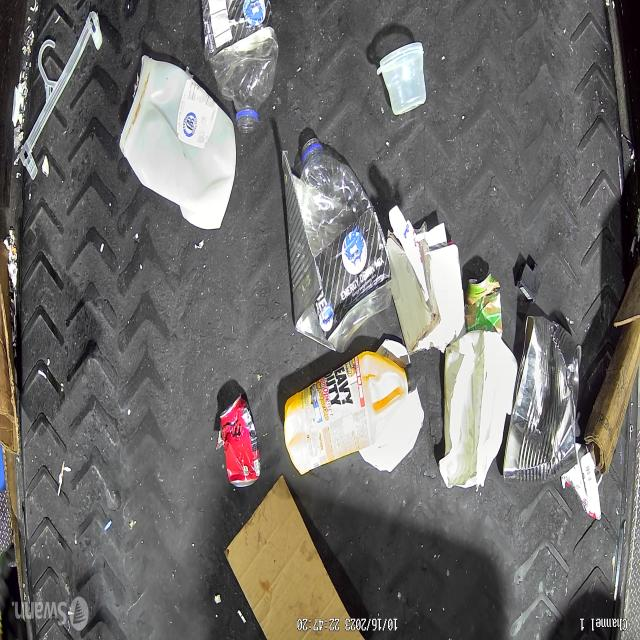can: (501, 317, 582, 484), (220, 394, 262, 488), (462, 274, 502, 335)
milk_jug: (118, 55, 236, 228)
non_white_jug: (284, 351, 416, 475)
plastic_bottle: (300, 142, 396, 356), (207, 2, 279, 134)
